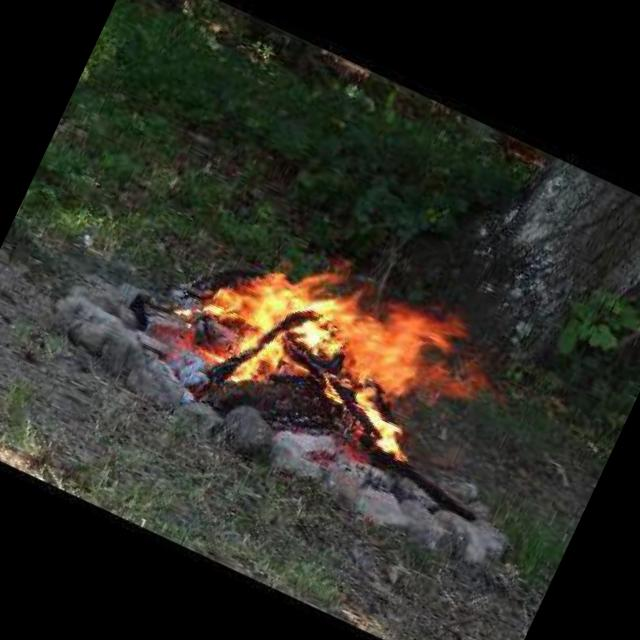fire: (168, 209, 532, 495)
